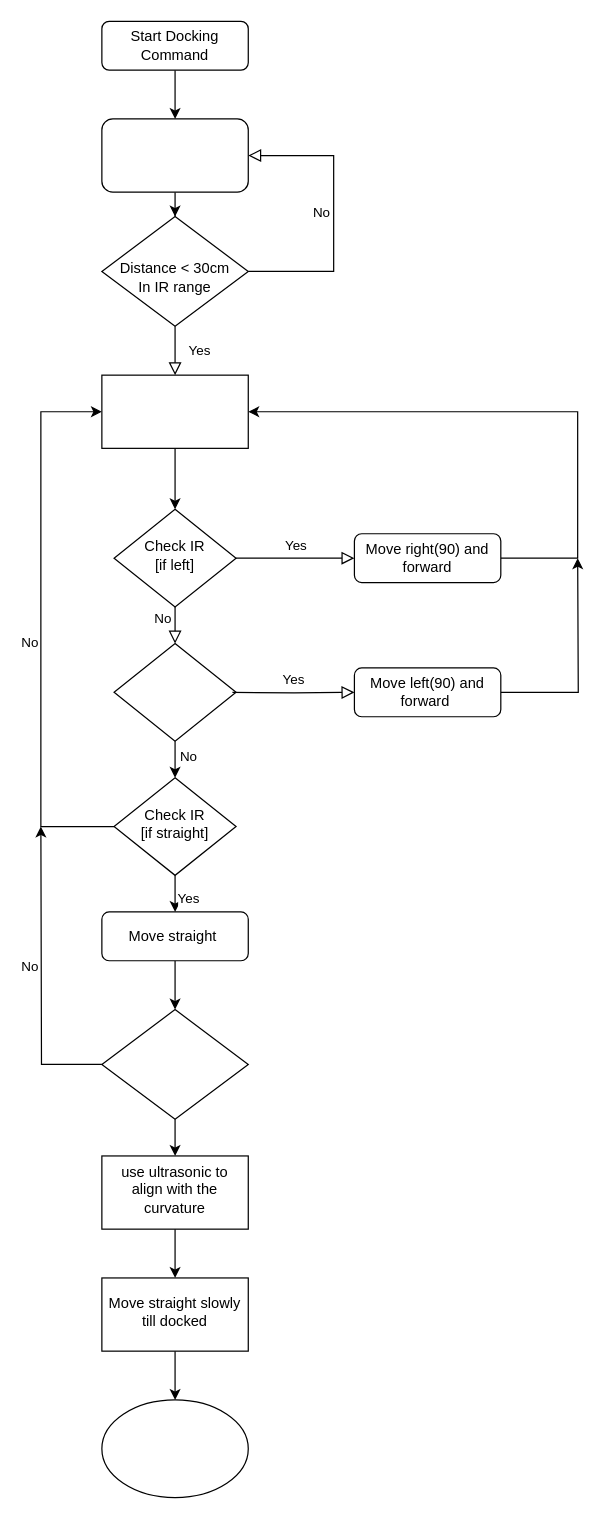
Some shapes in this 610 by 1519 pixel diagram are drawn without their labels. Each missing label, with the box of its shape:
Check IR [if right]: (113, 642, 236, 741)
Distance < 10cm Ultra align: (101, 1008, 248, 1119)
Go to (0,0) [Home position]: (101, 118, 248, 192)
Recalculate oriention to the origin: (101, 374, 248, 448)
Send charging notification: (101, 1399, 248, 1498)
